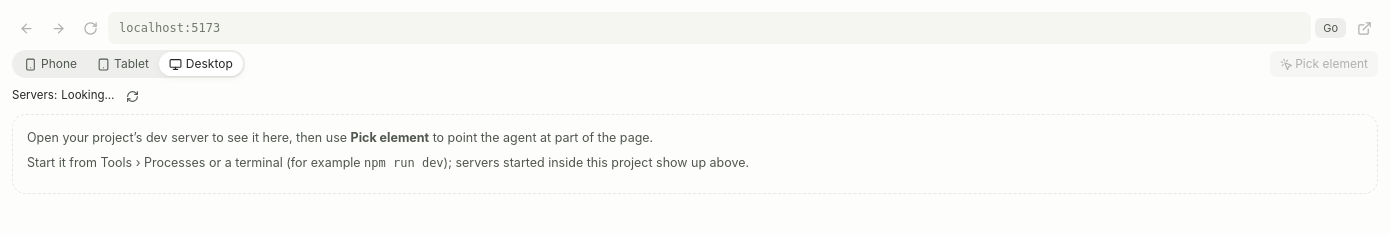
Test: refuses addresses on other computers before asking the engine
In the field named "Preview address": (710, 28) [108, 12, 1311, 44], type "http://example.com:8080"
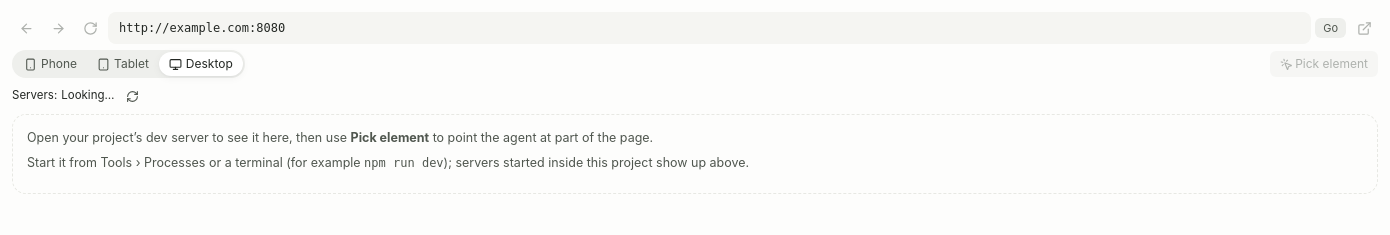
Submit the form named "Preview address", box [12, 12, 1378, 44]
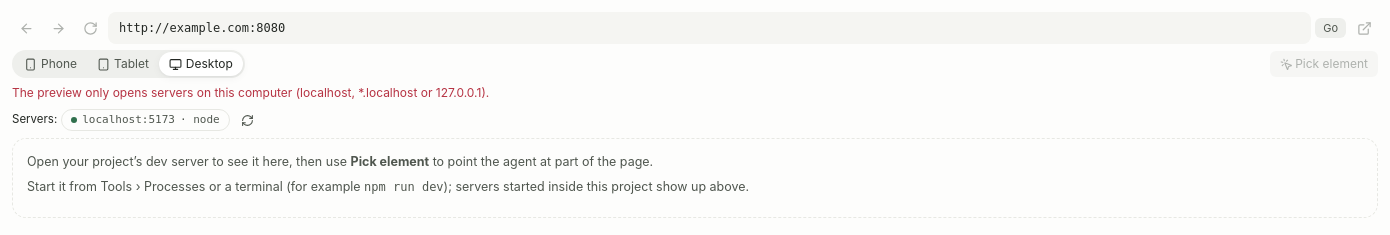
expect the message is shown: met, box [12, 85, 489, 100]
